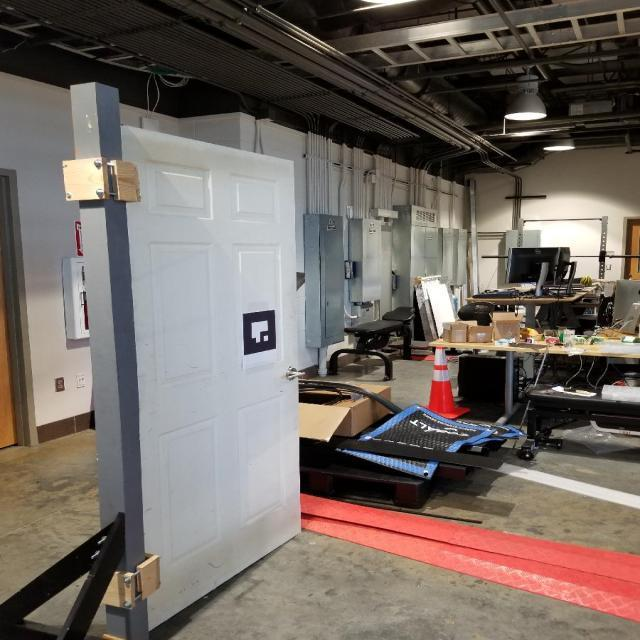door: (111, 122, 305, 635), (280, 364, 307, 381)
